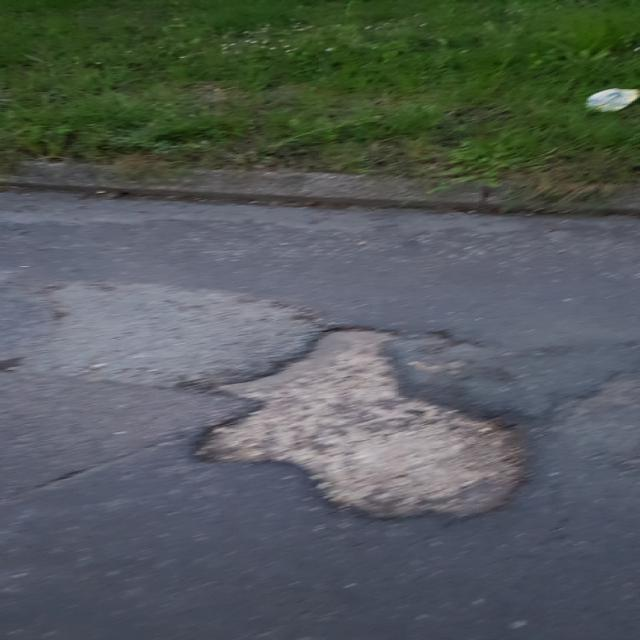Pothole: (177, 321, 549, 523)
